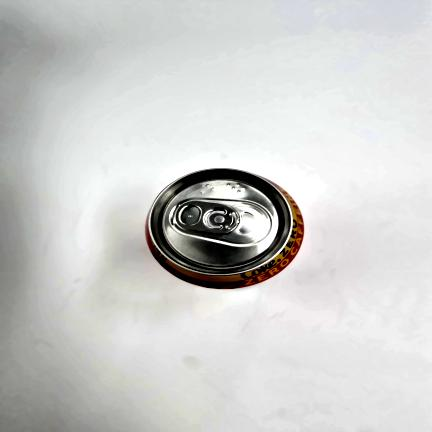can_coke_decaf: (146, 169, 304, 289)
